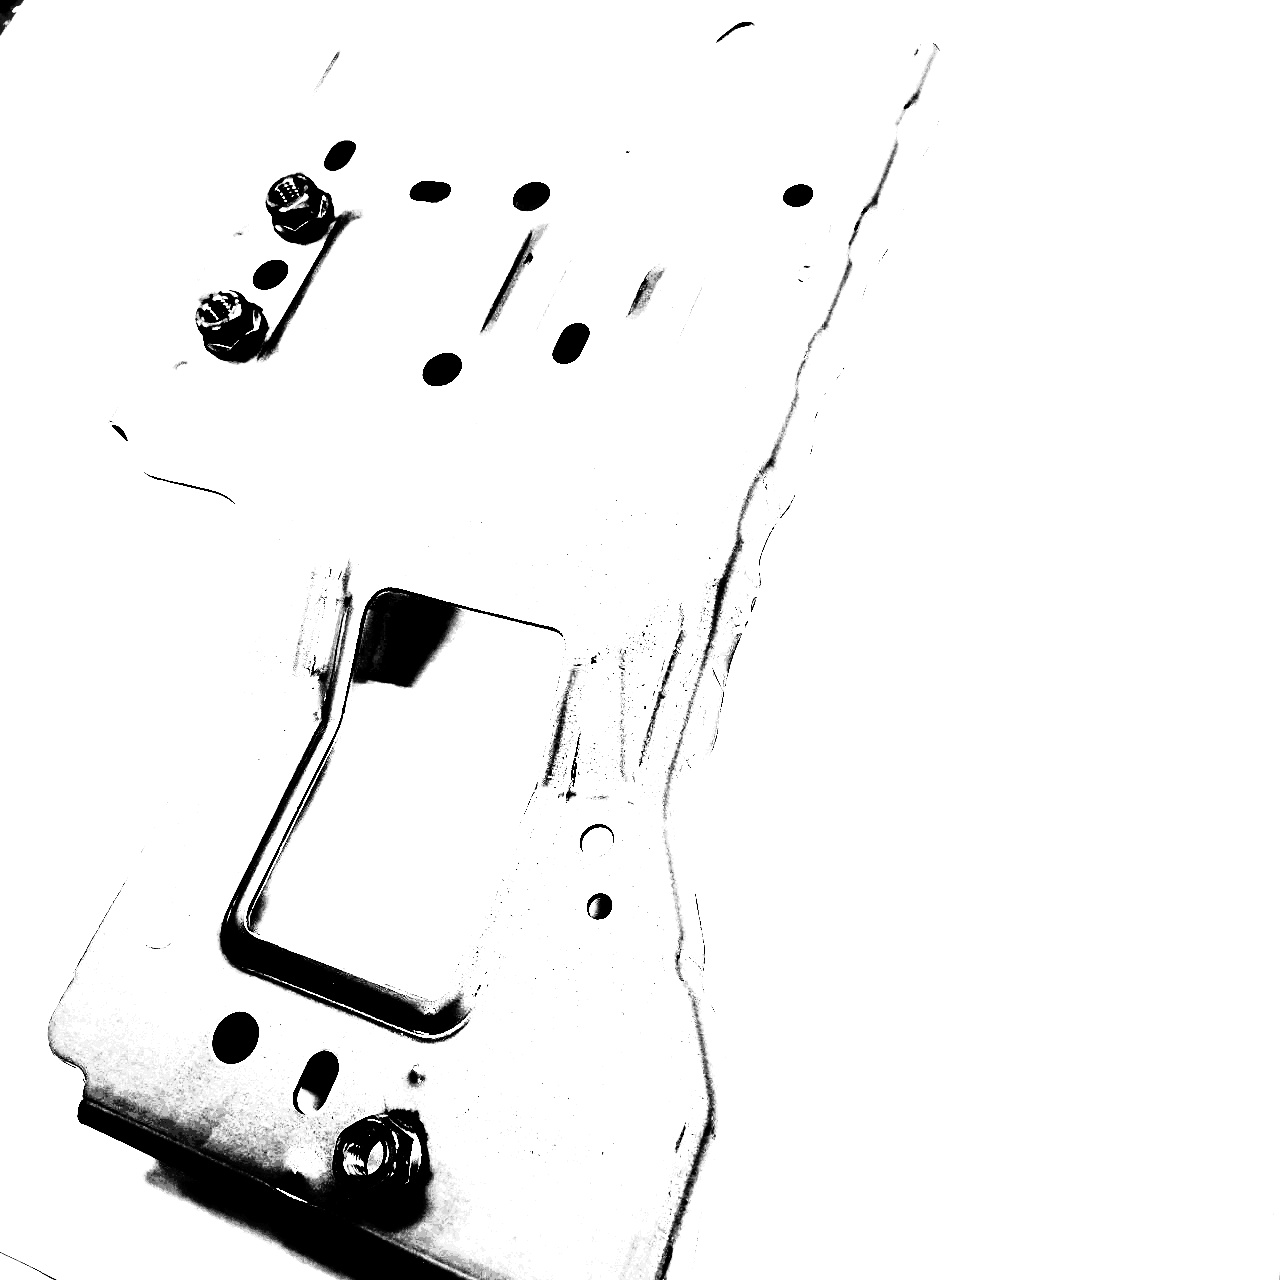dog: (328, 1104, 433, 1214), (190, 286, 270, 362), (260, 172, 340, 246)
